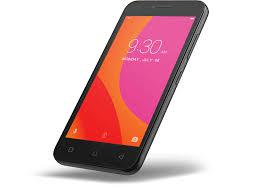Smartphone: (52, 0, 215, 182)
